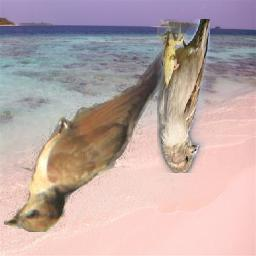Cuckoo: (5, 50, 172, 233)
Sparrow: (158, 19, 211, 173)
